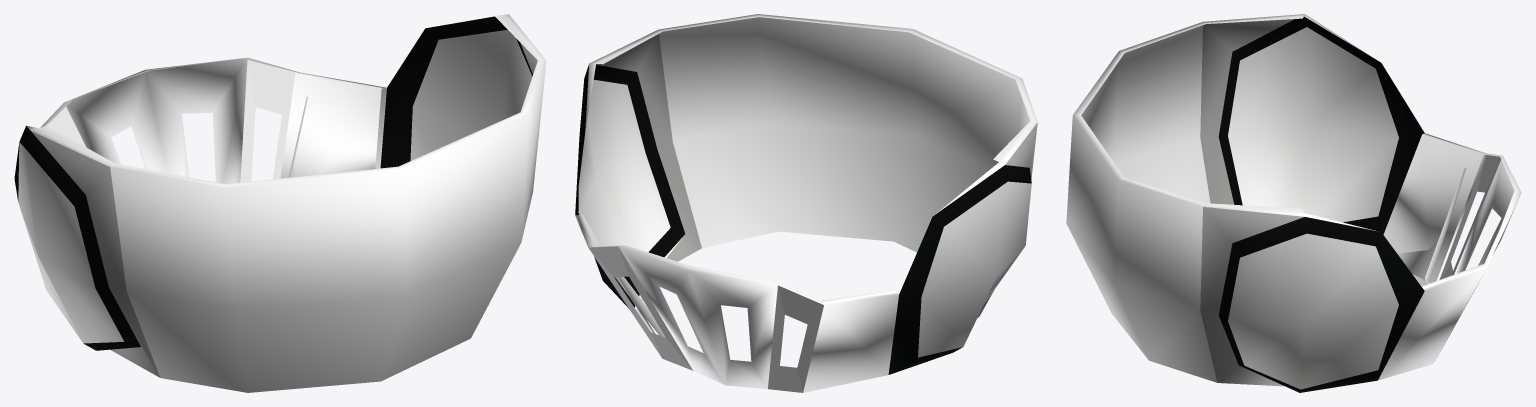
The model's file is Swag.FBX.
3 views of the same model, side by side, from view 1: azimuth 30°, elevation 25°; view 2: azimuth 150°, elevation 25°; view 3: azimuth 270°, elevation 25° (orthographic). The views are drawn at different scales.
Parts seen in each view (by area): view 1: Saboteur; view 2: Saboteur; view 3: Saboteur.
Boxes of the visible parts, left/top/right/bottom form: Saboteur: left=14, top=14, right=546, bottom=392; Saboteur: left=575, top=14, right=1037, bottom=392; Saboteur: left=1066, top=14, right=1521, bottom=392.
Bounding box in the file's own units: 0.64 × 0.3183 × 0.596.
1 material, 1 textured.
